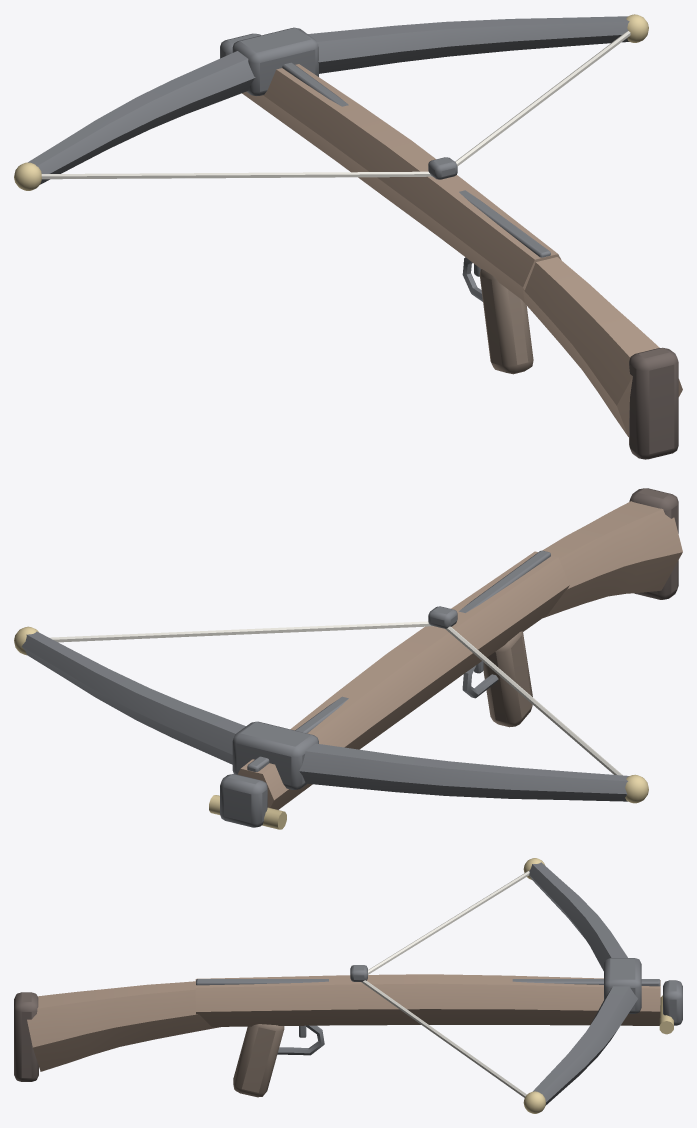
The model's file is Bow_Crossbow.glb.
3 renders of one model, top to bottom at view 1: azimuth 30°, elevation 25°; view 2: azimuth 150°, elevation 25°; view 3: azimuth 270°, elevation 25°, orthographic. The views are drawn at different scales.
Visible parts, largest first — view 1: sweep, sweep.003, sweep.001, sweep.004, Cube.001, Cube.002, Cube.004, Cylinder.001, Cube, Cylinder; view 2: sweep, sweep.004, sweep.001, sweep.003, Cube.004, Cube.002, Cube.006, Cylinder, Cube, Cube.001, Cylinder.001, Cylinder.002 (+3 smaller); view 3: sweep, sweep.001, sweep.003, sweep.004, Cube.002, Cube.001, Cube.004, Cube, Cylinder, Cylinder.001, Cube.006, sweep.002 (+1 smaller).
Boxes of the visible parts, x1,y1,x2,y2 form: sweep: (242, 64, 561, 301); sweep.003: (308, 16, 629, 73); sweep.001: (522, 257, 682, 436); sweep.004: (28, 51, 255, 184); Cube.001: (629, 347, 678, 459); Cube.002: (479, 269, 533, 374); Cube.004: (232, 27, 318, 96); Cylinder.001: (41, 171, 432, 179); Cube: (282, 62, 550, 257); Cylinder: (455, 31, 630, 166); sweep: (237, 551, 569, 809); sweep.004: (299, 743, 628, 801); sweep.001: (542, 501, 682, 617); sweep.003: (21, 631, 245, 764); Cube.004: (232, 721, 318, 789); Cube.002: (483, 631, 532, 727); Cube.006: (220, 774, 267, 827); Cylinder: (49, 621, 433, 642); Cube: (247, 550, 550, 771); Cube.001: (629, 488, 678, 599); Cylinder.001: (445, 626, 622, 775); Cylinder.002: (209, 795, 286, 829); sweep: (195, 974, 660, 1026); sweep.001: (27, 981, 220, 1071); sweep.003: (533, 986, 637, 1105); sweep.004: (529, 862, 627, 970); Cube.002: (233, 1024, 284, 1097); Cube.001: (14, 992, 38, 1081); Cube.004: (604, 958, 641, 1013); Cube: (196, 979, 660, 986); Cylinder: (361, 980, 526, 1097); Cylinder.001: (368, 871, 529, 974); Cube.006: (663, 980, 682, 1025); sweep.002: (277, 1025, 324, 1055).
Size of the model in its own units: 0.458 by 0.1117 by 0.533.
